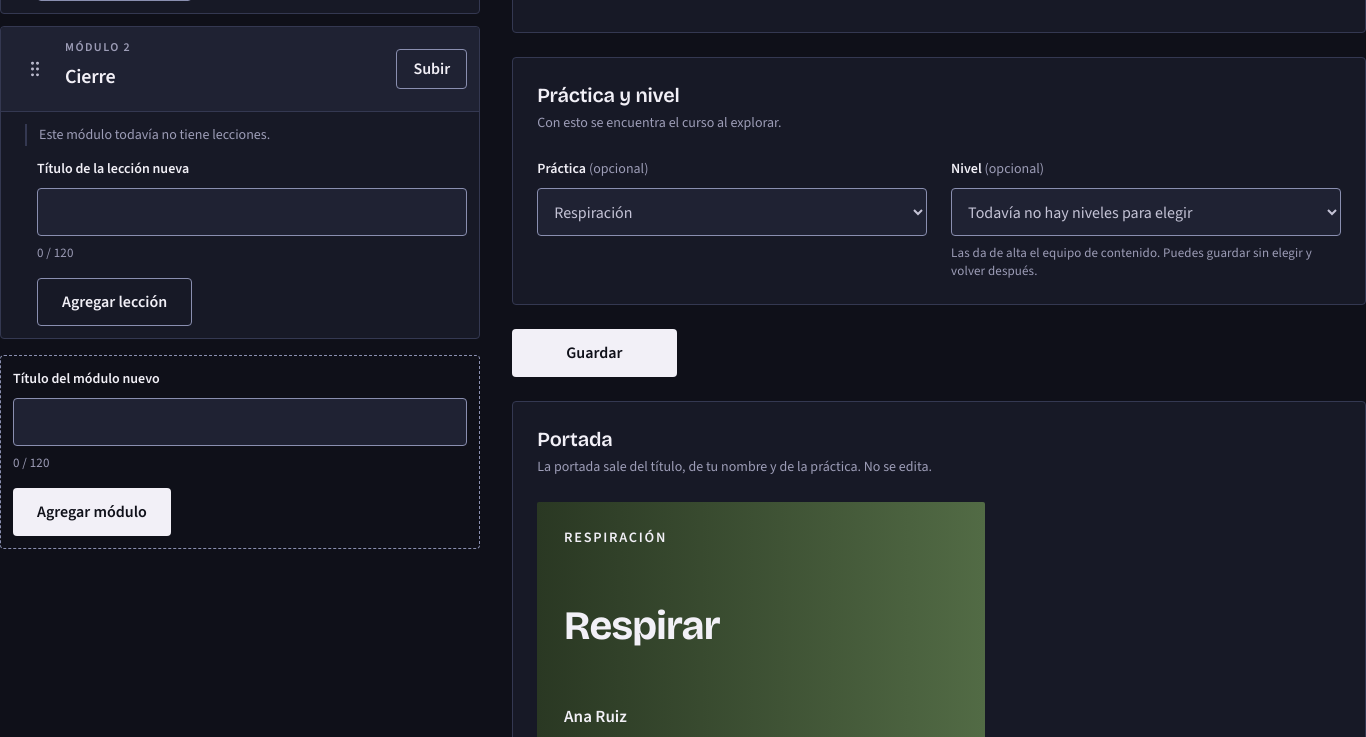
Scenario: los bloques del editor › si no se supo, lo escrito se queda
(page scrolled)
Step 1. Click the button "Guardar" → click(594, 353), box x1=512 y1=329 x2=676 y2=377
(page scrolled)
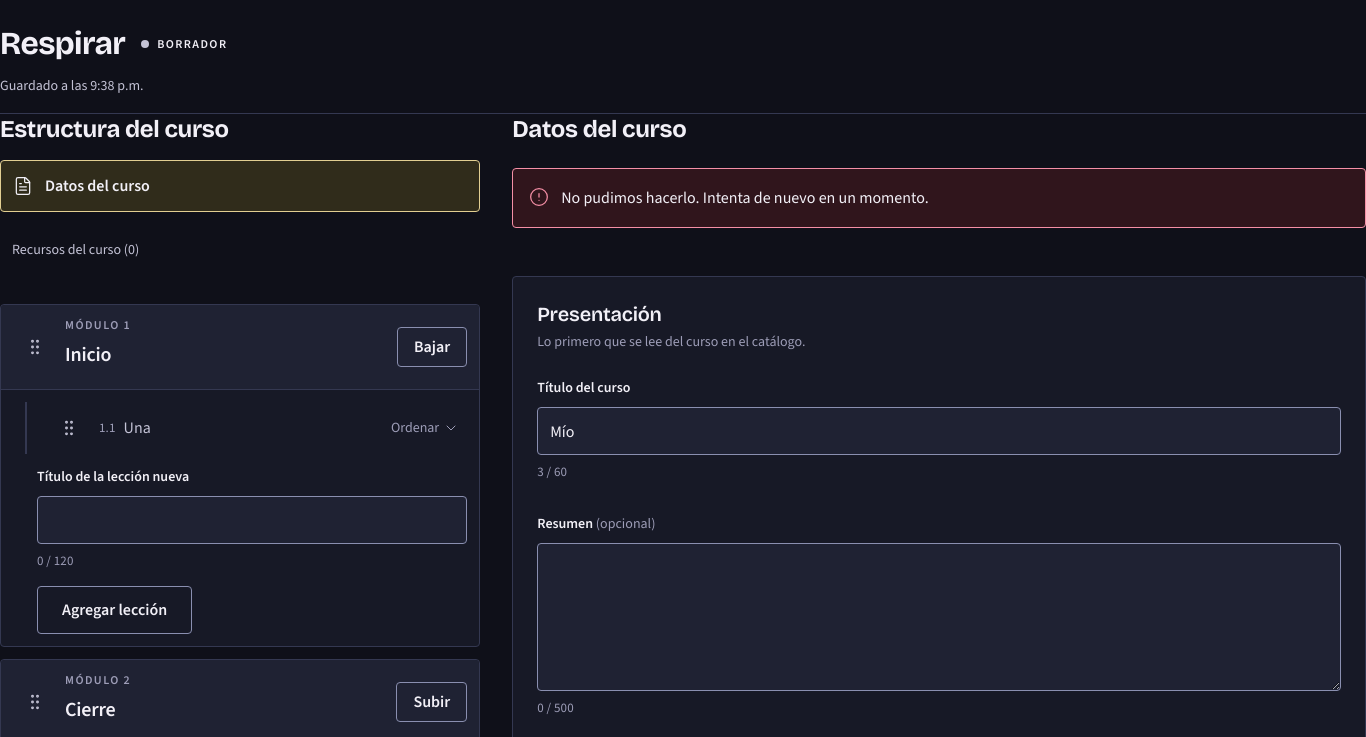
Expected: the text "No pudimos hacerlo. Intenta de nuevo en un momento." is shown, x1=561 y1=185 x2=929 y2=211
Expected: the field labelled "Título del curso" holds "Mío", x1=537 y1=407 x2=1341 y2=455
